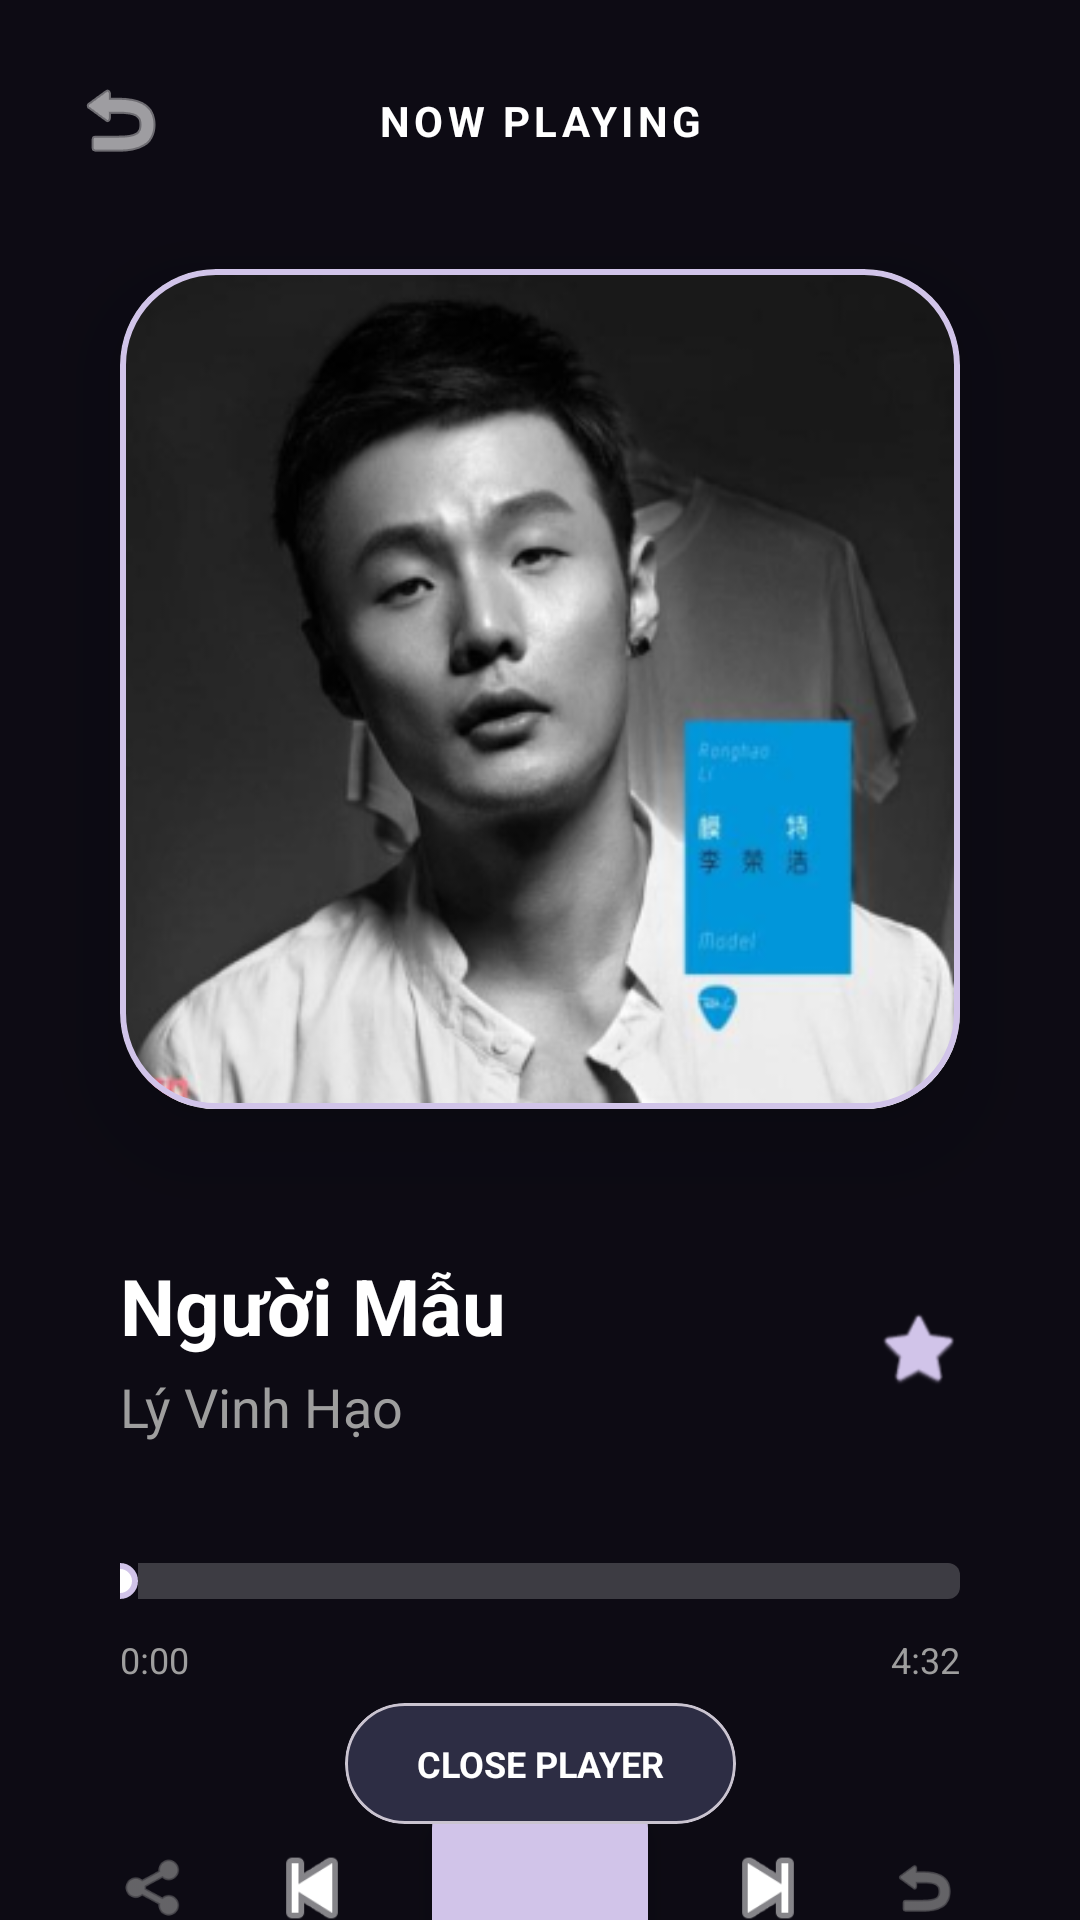

Named icons in this screenshot (1080x1920) and their bounding boxes, (x1, y1, x2, y2):
revert: (87, 89, 156, 152), (899, 1865, 951, 1912)
share: (125, 1860, 179, 1916)
